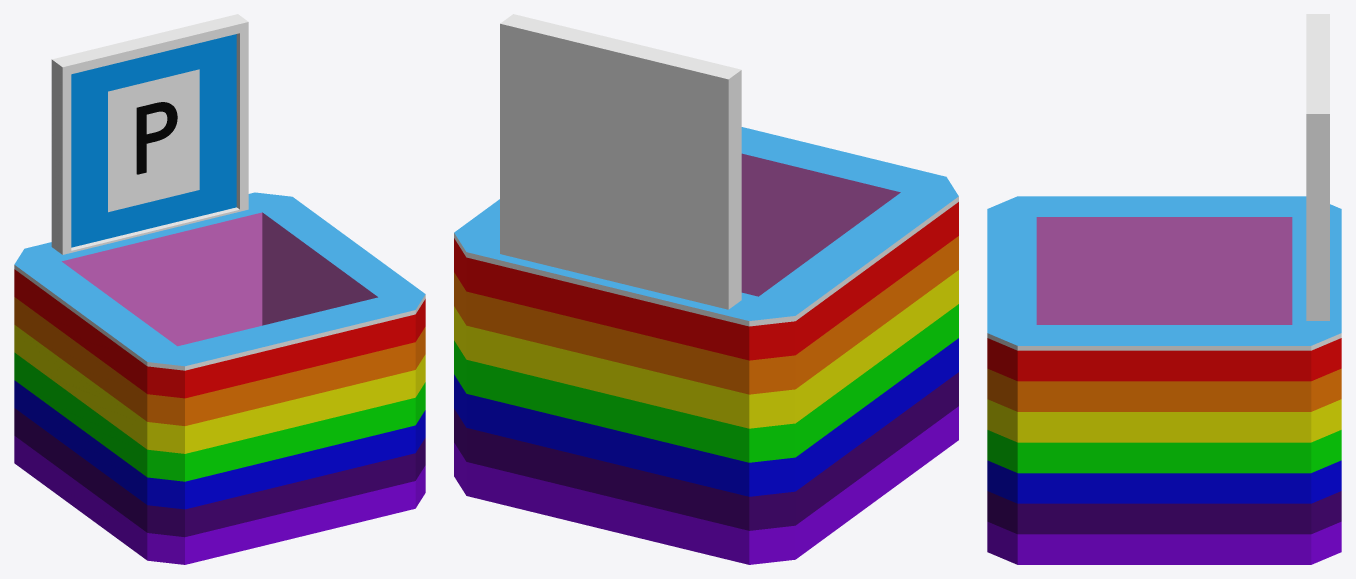
3 views of the same model, side by side, from view 1: azimuth 30°, elevation 25°; view 2: azimuth 150°, elevation 25°; view 3: azimuth 270°, elevation 25° (orthographic). The views are drawn at different scales.
Visible parts, largest first — view 1: Cube.001, Text; view 2: Cube.001; view 3: Cube.001.
Boxes of the visible parts, left/top/right/bottom form: Cube.001: left=14, top=14, right=425, bottom=564; Text: left=136, top=102, right=177, bottom=174; Cube.001: left=454, top=14, right=958, bottom=564; Cube.001: left=987, top=14, right=1341, bottom=564.
Bounding box in the file's own units: 383 × 508 × 383.
